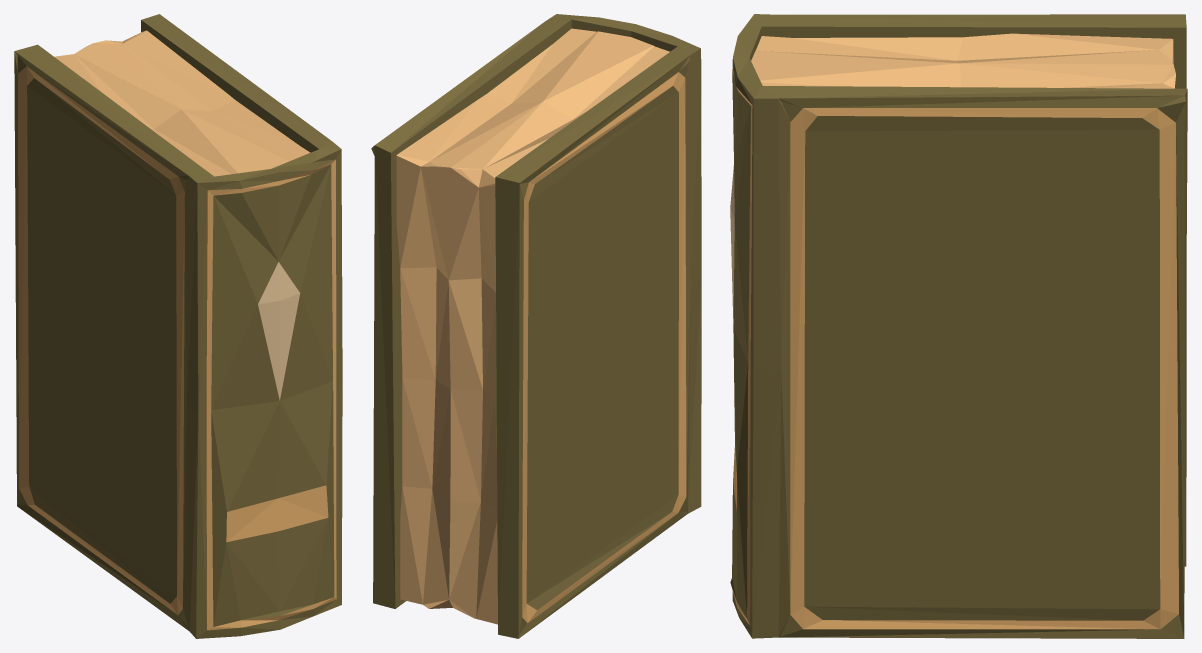
The model's file is Book_009.fbx.
3 renders of one model, left to right at view 1: azimuth 30°, elevation 25°; view 2: azimuth 150°, elevation 25°; view 3: azimuth 270°, elevation 25°, orthographic. The views are drawn at different scales.
Visible parts, largest first — view 1: Book_009; view 2: Book_009; view 3: Book_009.
Boxes of the visible parts, box(x1,y1,x2,y2) form: Book_009: box(14, 14, 342, 638); Book_009: box(371, 14, 701, 638); Book_009: box(730, 14, 1187, 638).
Bounding box in the file's own units: 0.1068 × 0.3158 × 0.2403.
